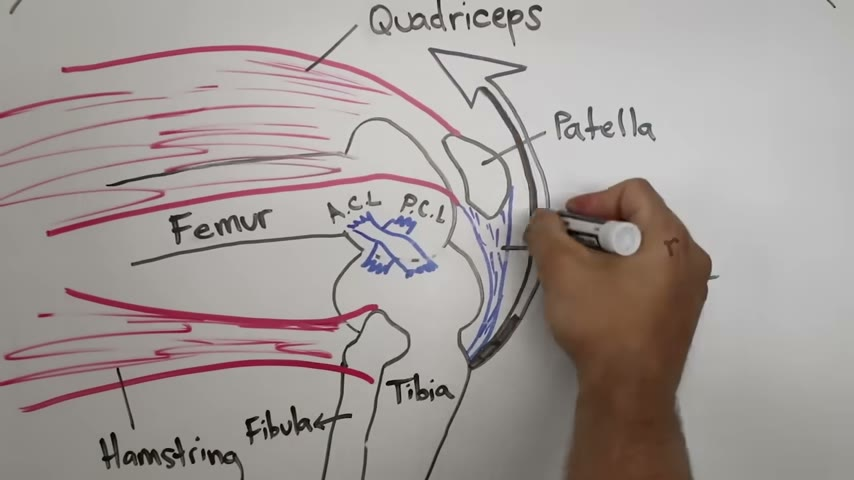barbell_plate_side: (544, 58, 652, 337)
